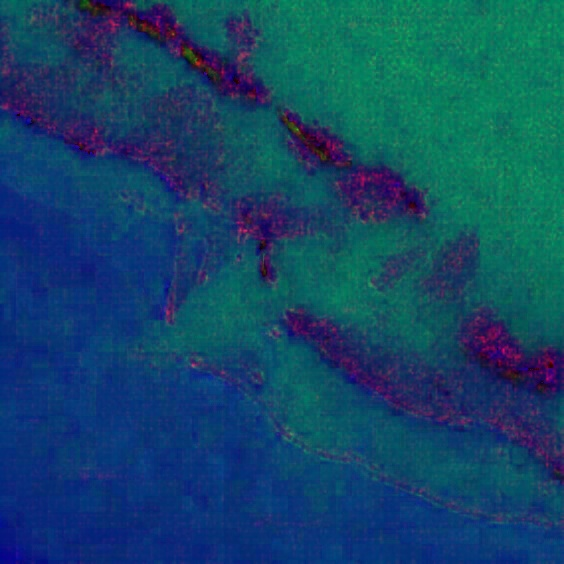rip_current: (162, 142, 476, 406)
